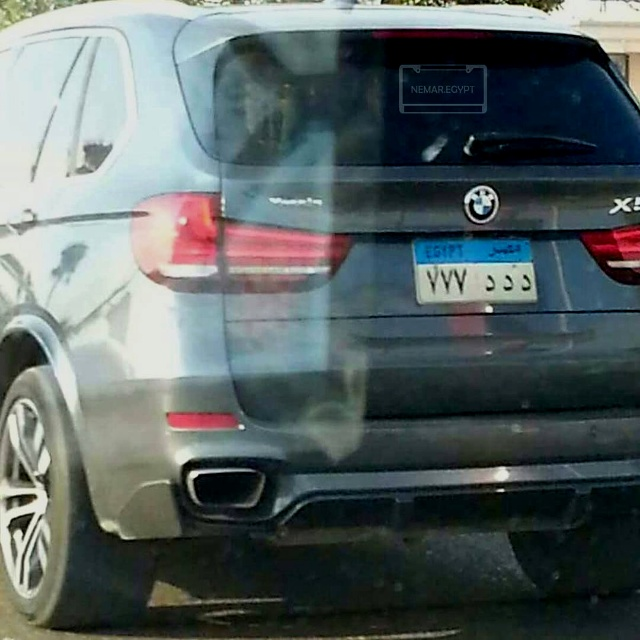License Plate: (409, 232, 541, 308)
